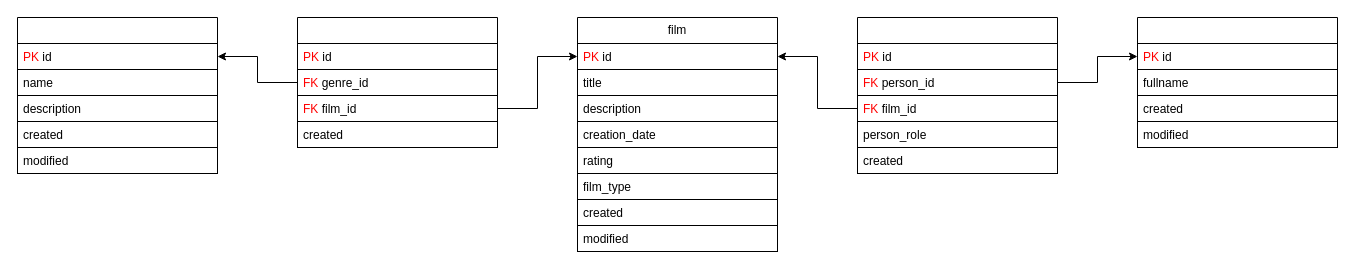
The diagram is 1355 pixels wide and 272 high, and some of its shapes have lost their labels. The box of each missing label's shape, as (x1, y1, x2, y2) in pixels:
genre: (16, 16, 218, 174)
genre_film: (296, 16, 498, 148)
person: (1136, 16, 1338, 148)
person_film: (856, 16, 1058, 174)
